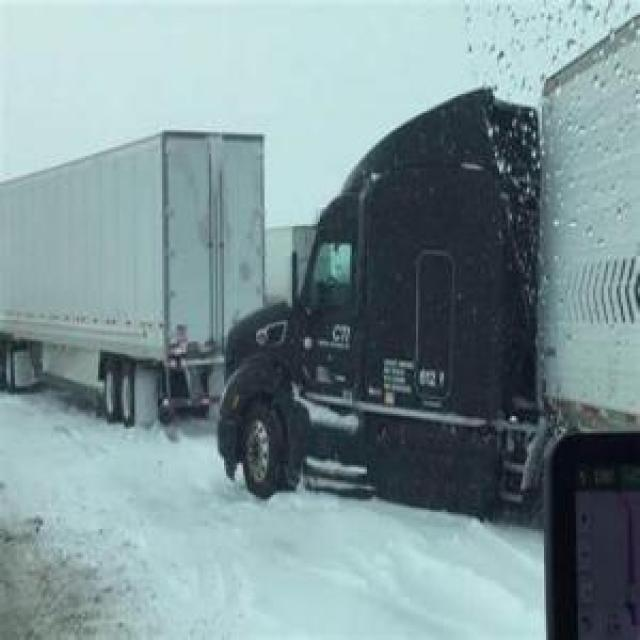ice-road: (0, 394, 546, 640)
